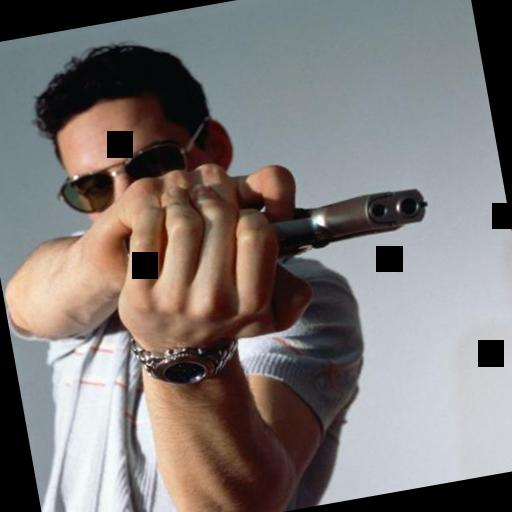Handgun: (226, 175, 438, 271)
